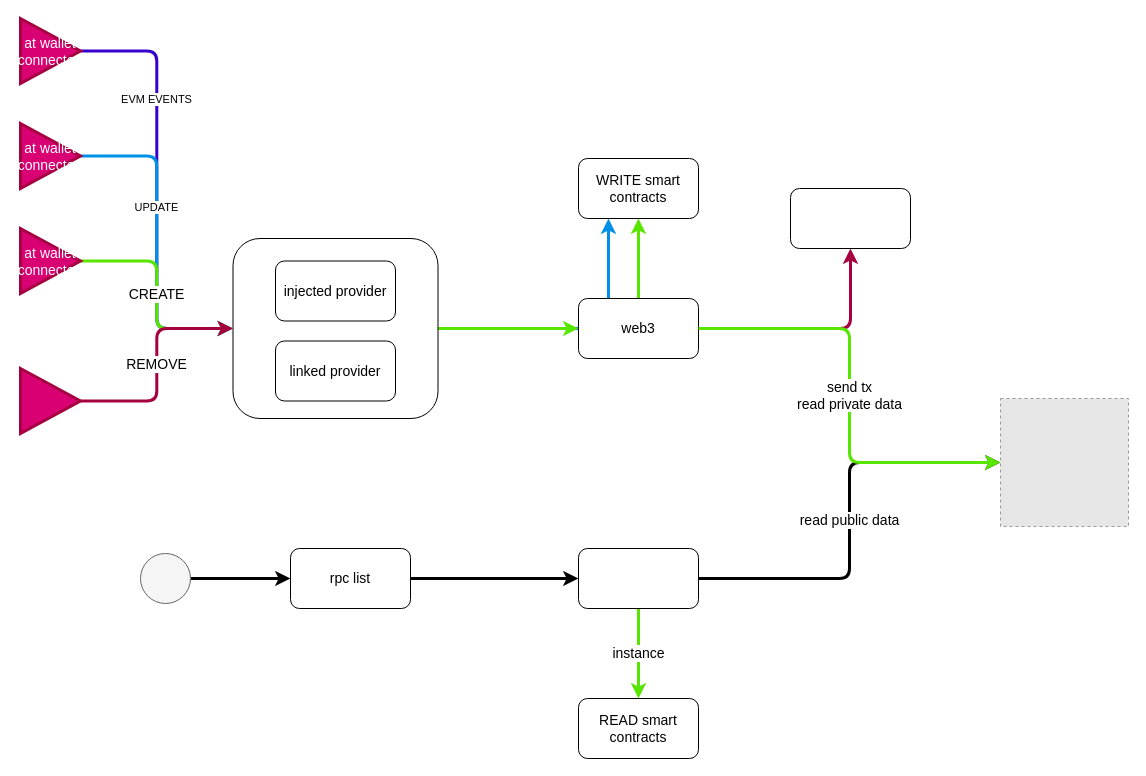
This 1146x776 diagram has some shape labels left out. Grey dashed boxes stand in for pictures. The shapes that lost their labels are listed below. From the top down, each one's centre as x and y in pixels, then its label:
At (850,218): "dispose".
At (50,400): "at wallet disconnect".
At (165,578): "at start".
At (638,578): "web3 read".
